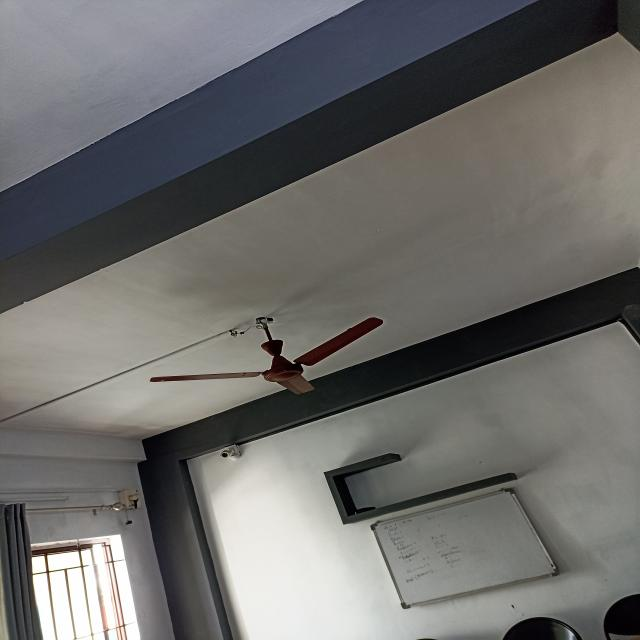fan: (148, 314, 383, 395)
